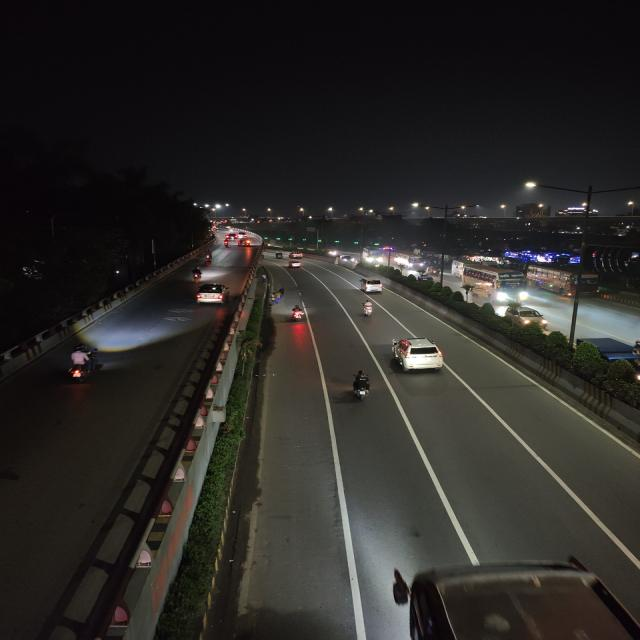bus: (461, 266, 527, 304), (530, 265, 598, 298), (393, 252, 425, 269), (363, 247, 388, 267)
car: (384, 548, 640, 640), (387, 335, 447, 377), (504, 304, 551, 330), (195, 282, 231, 306), (357, 276, 386, 294), (338, 254, 357, 266), (286, 260, 304, 270), (288, 250, 304, 260), (237, 238, 252, 246)
motorcycle: (64, 344, 104, 384), (345, 368, 376, 404), (356, 298, 376, 319), (288, 304, 307, 322), (189, 267, 205, 283), (197, 255, 210, 268), (202, 252, 214, 266), (223, 239, 228, 248)
pedestrian: (269, 290, 278, 308), (278, 285, 285, 304), (260, 274, 268, 287)
